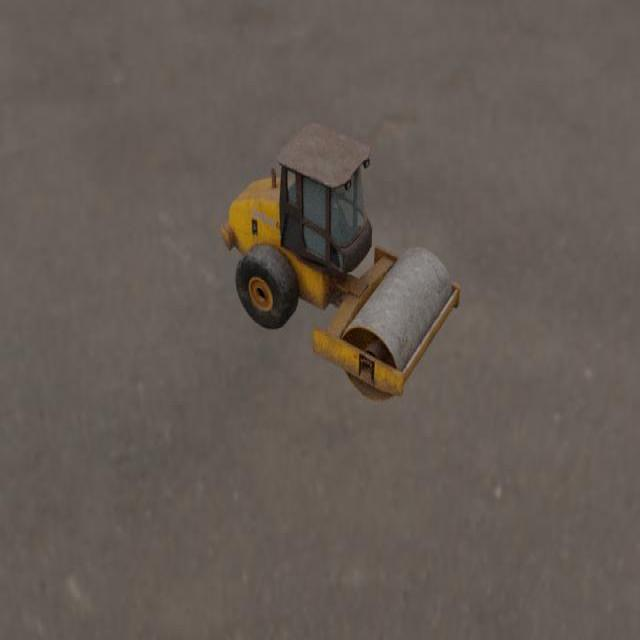Roller: (220, 121, 461, 403)
